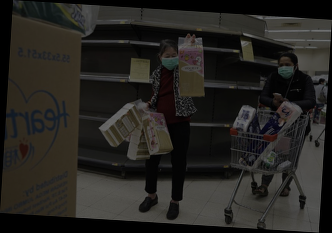with_mask: (160, 50, 180, 71), (277, 60, 297, 80)
